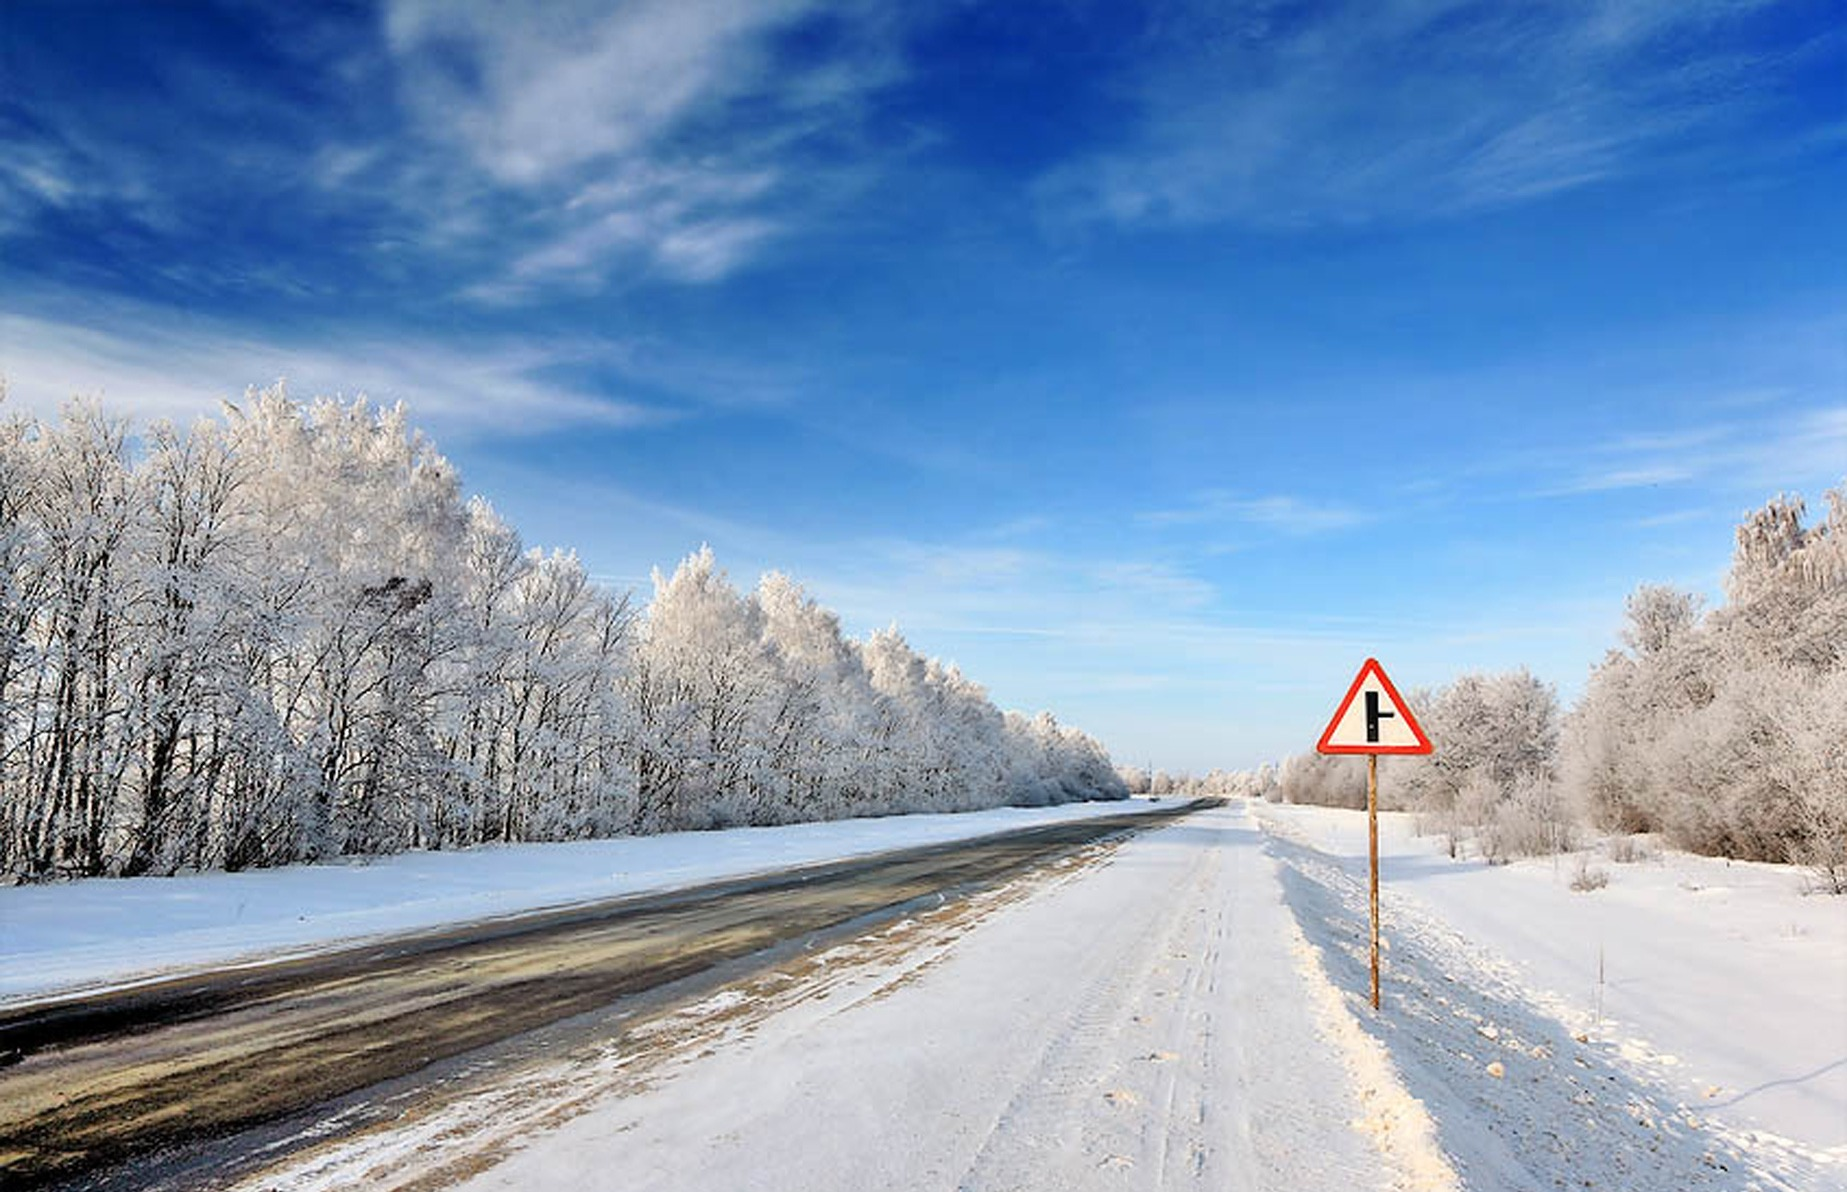sign: (1315, 655, 1435, 758)
